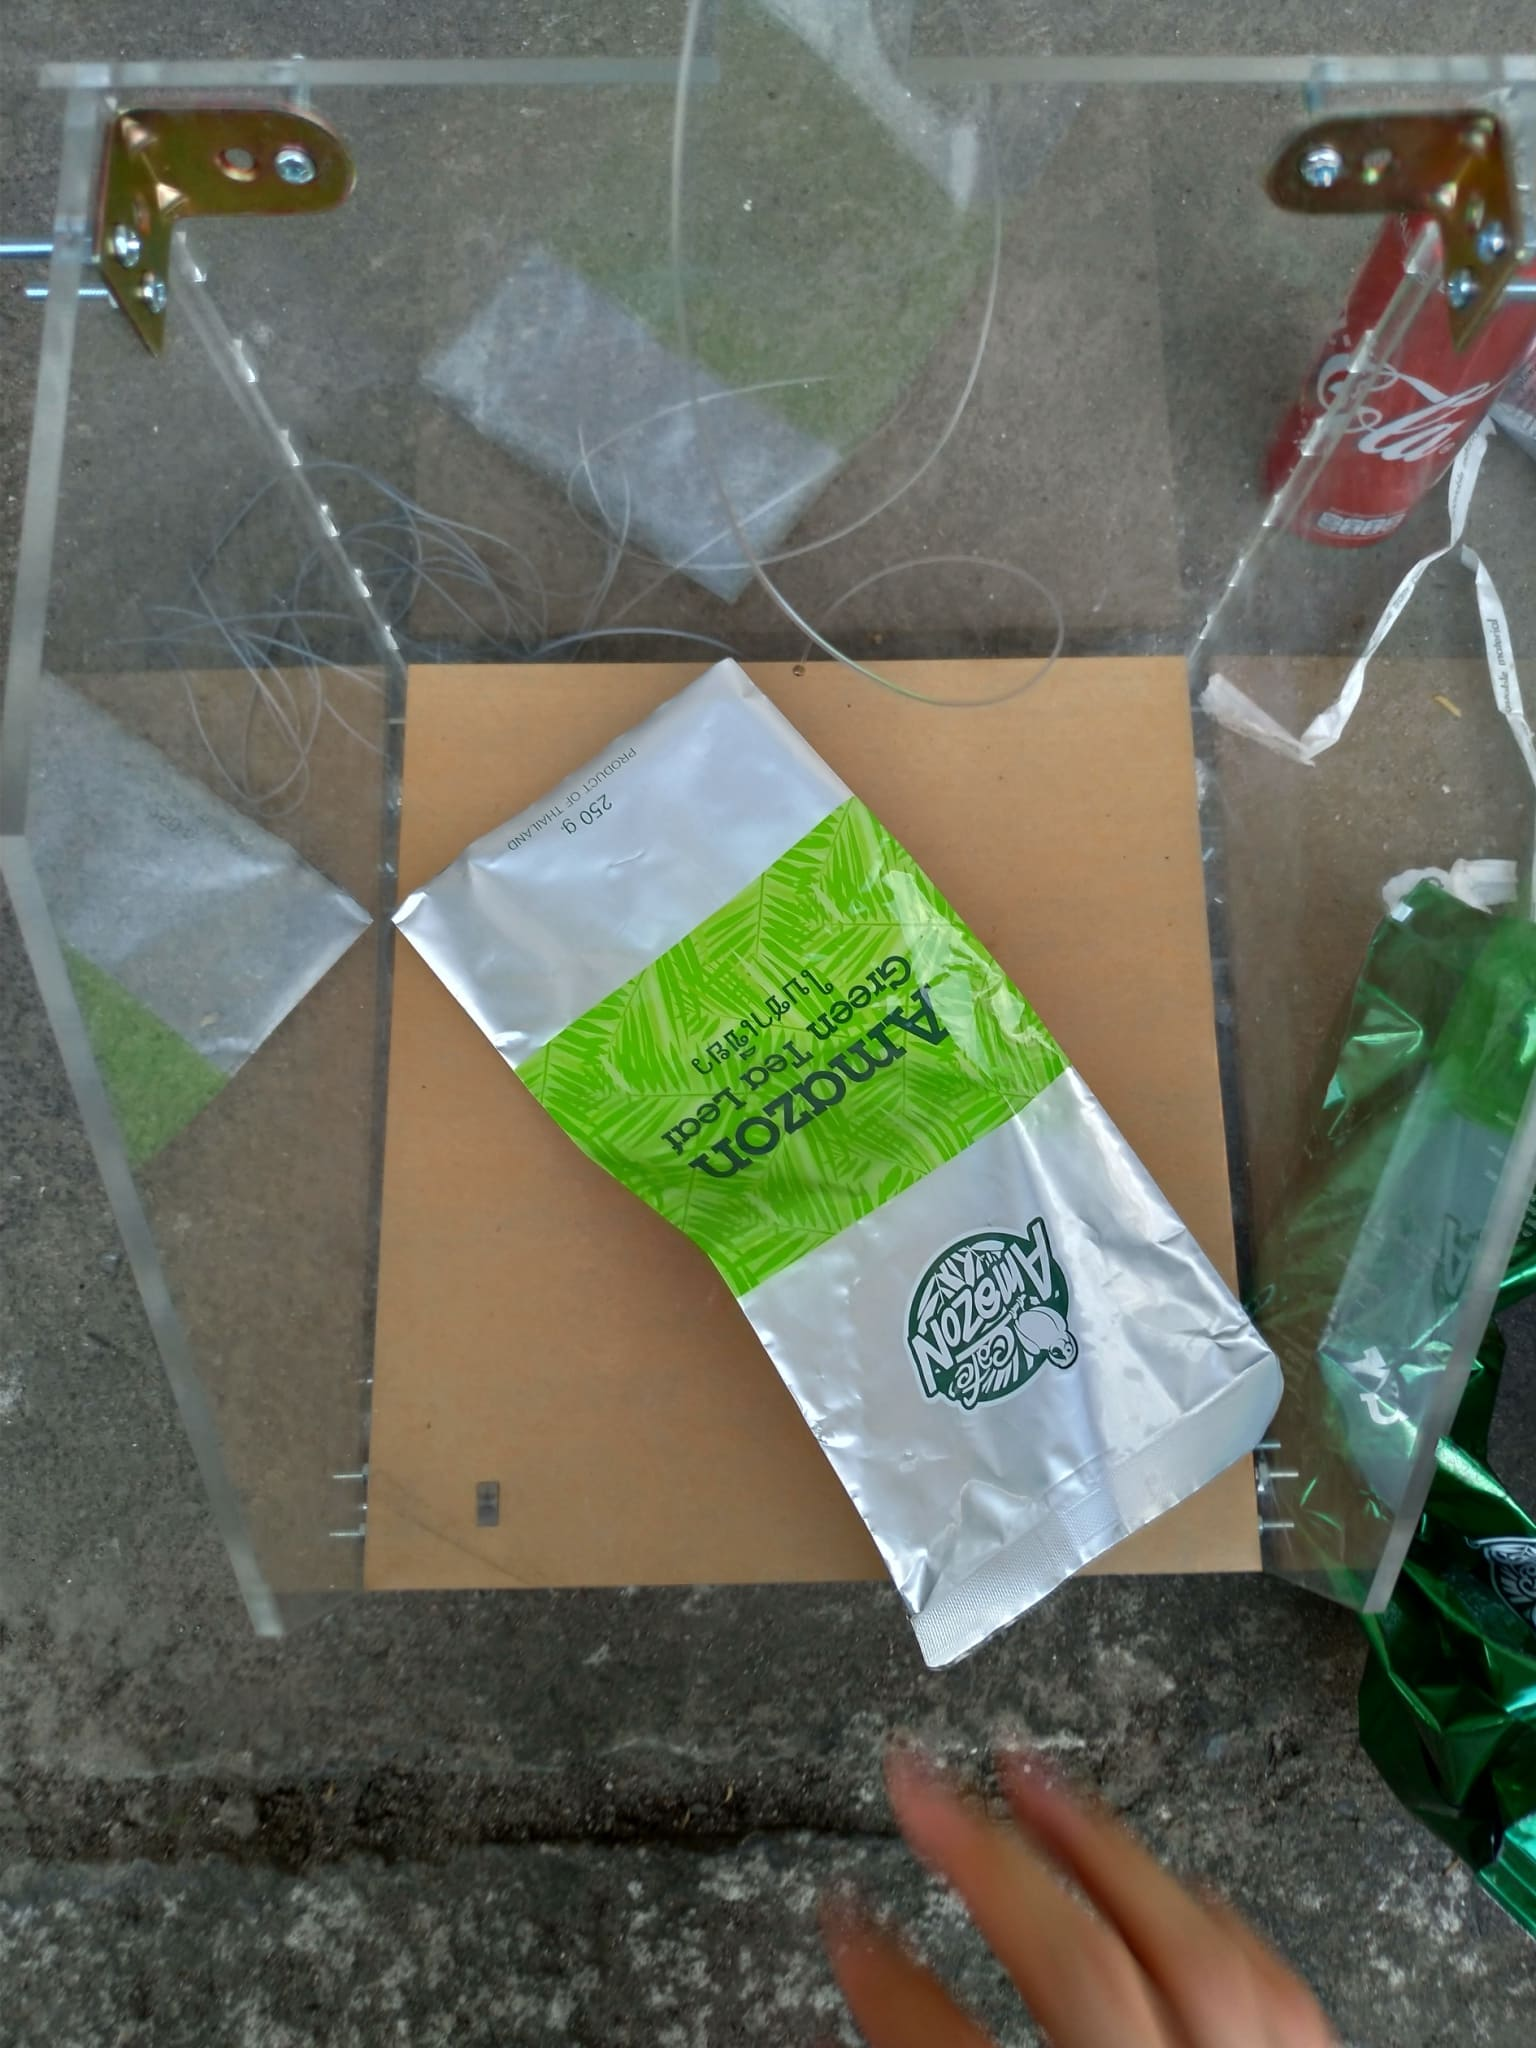AlCan: (1250, 208, 1533, 545)
Others: (390, 658, 1279, 1651), (1257, 898, 1536, 1893)
